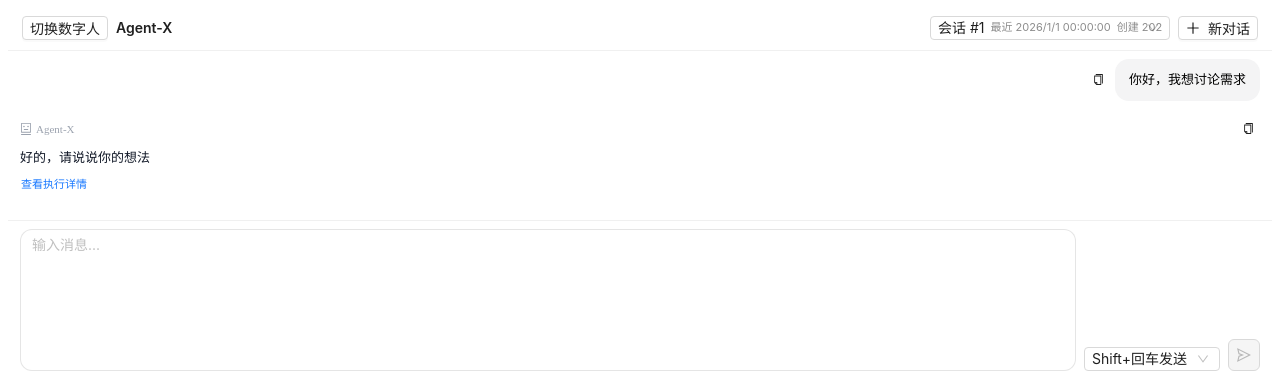
Test: WorkitemClarificationPanel › restores the message and reports an error when sending fails
In the text box with placeholder "输入消息...": (548, 300) [20,229,1076,371], type "请保留这条消息"
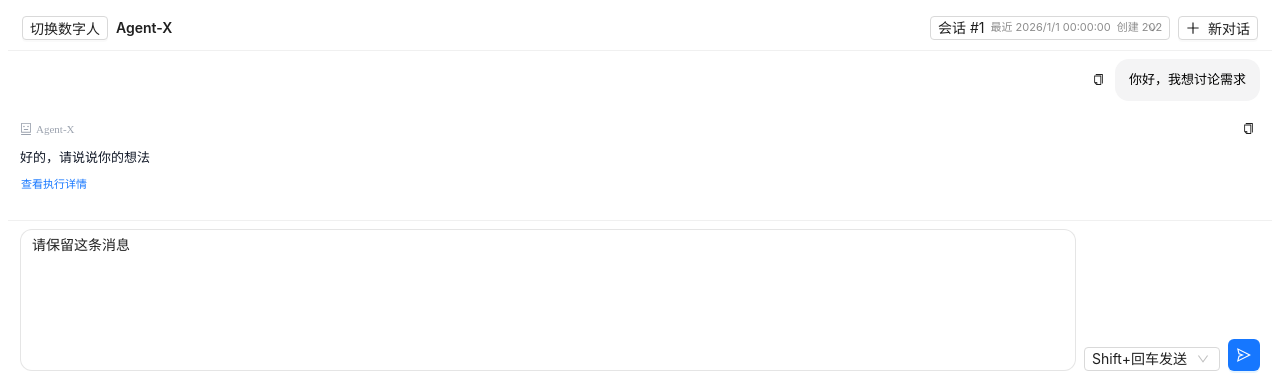
Press Enter in the text box with placeholder "输入消息...", box [20,229,1076,371]
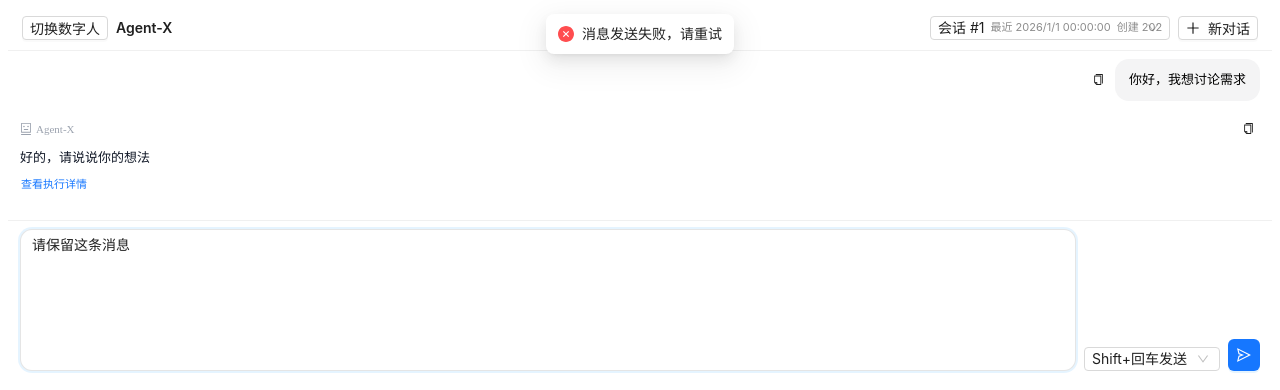
Now the text "消息发送失败，请重试" is shown, box [582,23,722,45]
